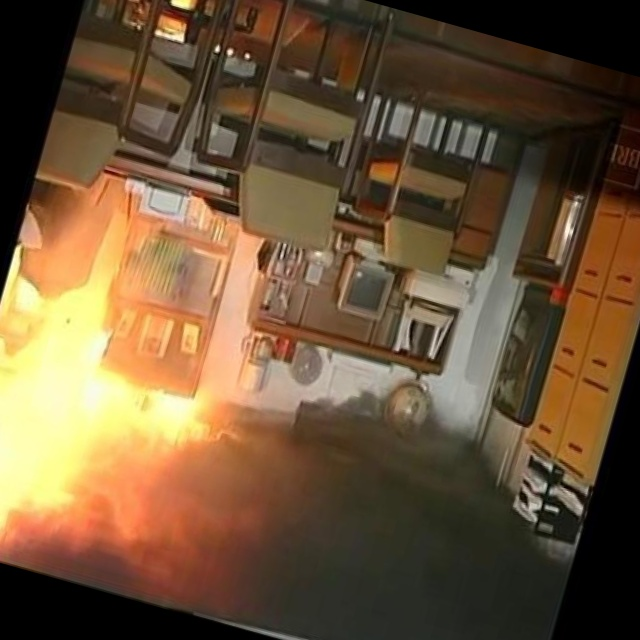fire: (0, 279, 195, 591)
smoke: (160, 373, 588, 640)
